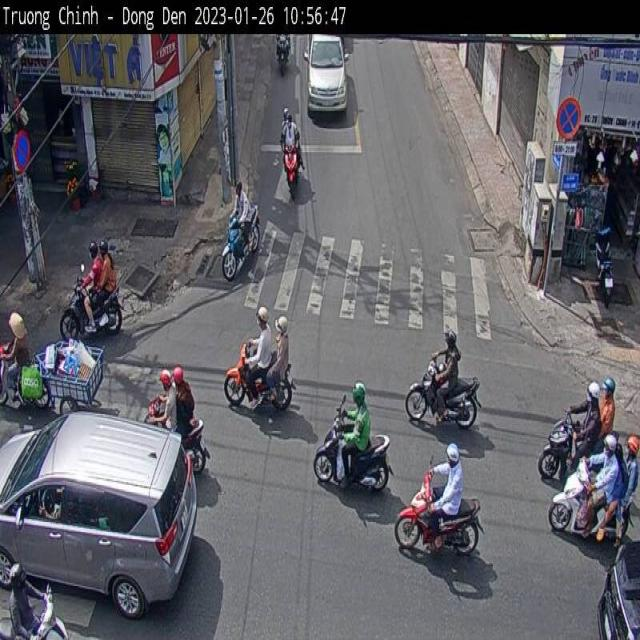with_helmet: (271, 299, 293, 351), (351, 377, 378, 418), (6, 304, 30, 349), (251, 297, 274, 343), (440, 325, 462, 365), (602, 370, 620, 405), (440, 441, 465, 466), (600, 429, 618, 461), (625, 431, 640, 465), (97, 236, 116, 262), (87, 237, 101, 268), (588, 377, 600, 410)
without_helmet: (232, 170, 248, 202), (278, 98, 290, 119), (287, 112, 293, 126)
